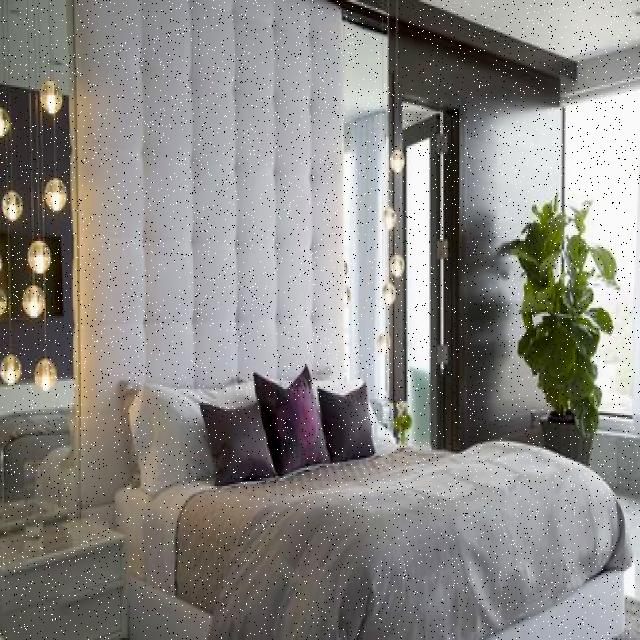bed: (123, 366, 597, 640)
